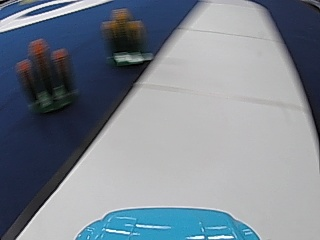corn: (15, 35, 76, 114), (102, 6, 149, 65)
